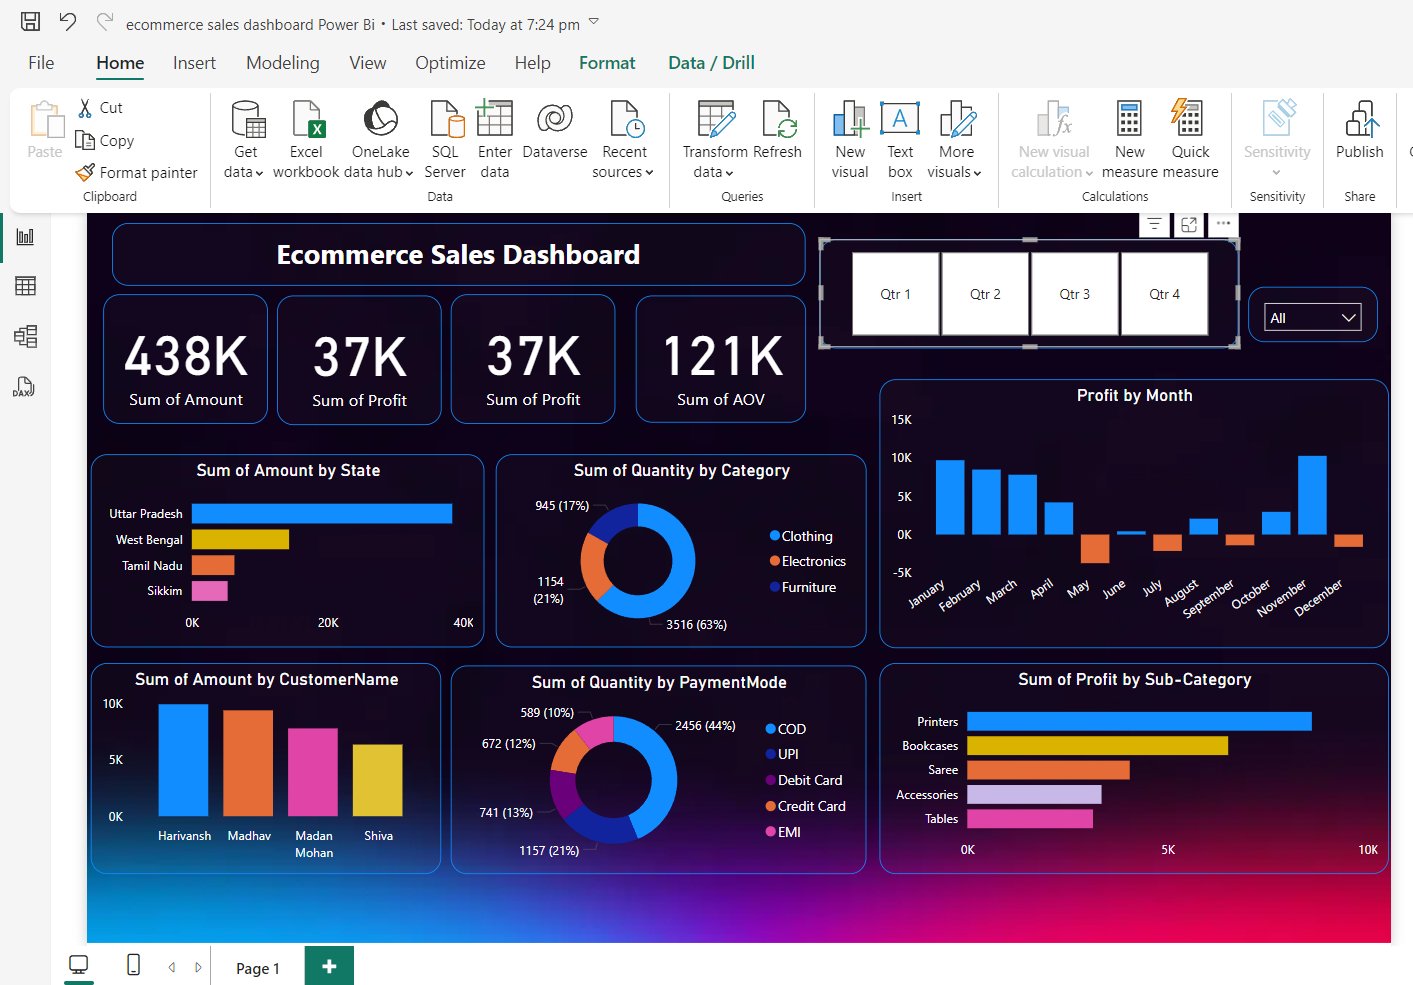

Layout of this report page (visuals, bound fields, positions):
{"tool":"powerbi","page":{"name":"Page 1","canvas":[1280,720],"ordinal":0},"visuals":[{"type":"textbox","box":[24.7,10.3,680.4,61.9],"z":0},{"type":"columnChart","title":"Profit by Month","fields":{"Category":["Orders.Order Date.Variation.Date Hierarchy.Month"],"Y":["Sum(Details.Profit)"]},"box":[778.4,162.9,500,263.9],"z":1000},{"type":"barChart","fields":{"Category":["Details.Sub-Category"],"Y":["Sum(Details.Profit)"]},"box":[777.3,442.3,500,207.2],"z":2000},{"type":"donutChart","fields":{"Category":["Details.Category"],"Y":["Sum(Details.Quantity)"]},"box":[401,237.1,363.9,189.7],"z":3000},{"type":"donutChart","fields":{"Y":["Sum(Details.Quantity)"],"Category":["Details.PaymentMode"]},"box":[356.7,444.3,408.2,205.2],"z":4000},{"type":"card","fields":{"Values":["Sum(Details.Amount)"]},"box":[16.5,79.4,161.9,126.8],"z":5000},{"type":"card","fields":{"Values":["Sum(Details.Profit)"]},"box":[186.6,80.4,161.9,126.8],"z":6000},{"type":"card","fields":{"Values":["Sum(Details.Profit)"]},"box":[356.7,79.4,161.9,126.8],"z":7000},{"type":"card","fields":{"Values":["Sum(Details.AOV)"]},"box":[538.1,81.4,167,124.7],"z":8000},{"type":"barChart","fields":{"Category":["Orders.State"],"Y":["Sum(Details.Amount)"]},"box":[4.1,237.1,386.6,189.7],"z":9000},{"type":"columnChart","fields":{"Category":["Orders.CustomerName"],"Y":["Sum(Details.Amount)"]},"box":[4.1,442.3,344.3,207.2],"z":10000},{"type":"slicer","fields":{"Values":["Orders.Order Date.Variation.Date Hierarchy.Quarter"]},"box":[719.6,25.8,411.3,107.2],"z":11000},{"type":"slicer","fields":{"Values":["Orders.State"]},"box":[1140.2,72.2,126.8,54.6],"z":12000}]}

Visuals, with their boxes on the page's 1280x720 design canvas (x1, y1, x2, y2). These are canvas units, not pixel positions in the 1413x985 screenshot, which may show the page scaled, cropped or inside an application window:
textbox: {"left": 25, "top": 10, "right": 705, "bottom": 72}
"Profit by Month" columnChart: {"left": 778, "top": 163, "right": 1278, "bottom": 427}
barChart - Details.Sub-Category x Sum(Details.Profit): {"left": 777, "top": 442, "right": 1277, "bottom": 650}
donutChart - Details.Category x Sum(Details.Quantity): {"left": 401, "top": 237, "right": 765, "bottom": 427}
donutChart - Sum(Details.Quantity) x Details.PaymentMode: {"left": 357, "top": 444, "right": 765, "bottom": 650}
card - Sum(Details.Amount): {"left": 16, "top": 79, "right": 178, "bottom": 206}
card - Sum(Details.Profit): {"left": 187, "top": 80, "right": 348, "bottom": 207}
card - Sum(Details.Profit): {"left": 357, "top": 79, "right": 519, "bottom": 206}
card - Sum(Details.AOV): {"left": 538, "top": 81, "right": 705, "bottom": 206}
barChart - Orders.State x Sum(Details.Amount): {"left": 4, "top": 237, "right": 391, "bottom": 427}
columnChart - Orders.CustomerName x Sum(Details.Amount): {"left": 4, "top": 442, "right": 348, "bottom": 650}
slicer - Orders.Order Date.Variation.Date Hierarchy.Quarter: {"left": 720, "top": 26, "right": 1131, "bottom": 133}
slicer - Orders.State: {"left": 1140, "top": 72, "right": 1267, "bottom": 127}
